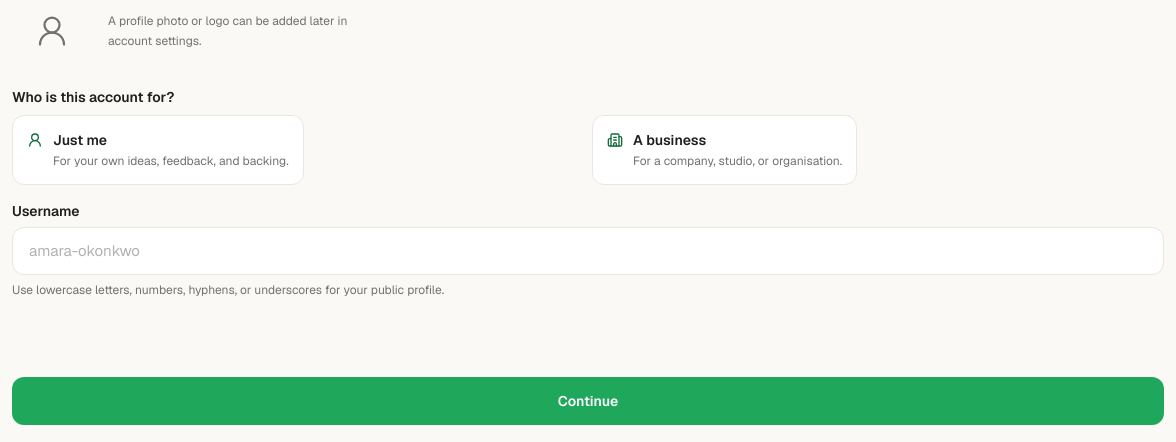
Test: ProfileOnboardingForm › asks who the account is for before showing name fields in preview
The width and height of the screenshot is (1176, 442).
Expected: the radio button labelled "Just me For your own ideas, feedback, and backing." is not checked, [12, 115, 304, 185]
Click the button "Continue": (588, 401) [12, 377, 1164, 425]
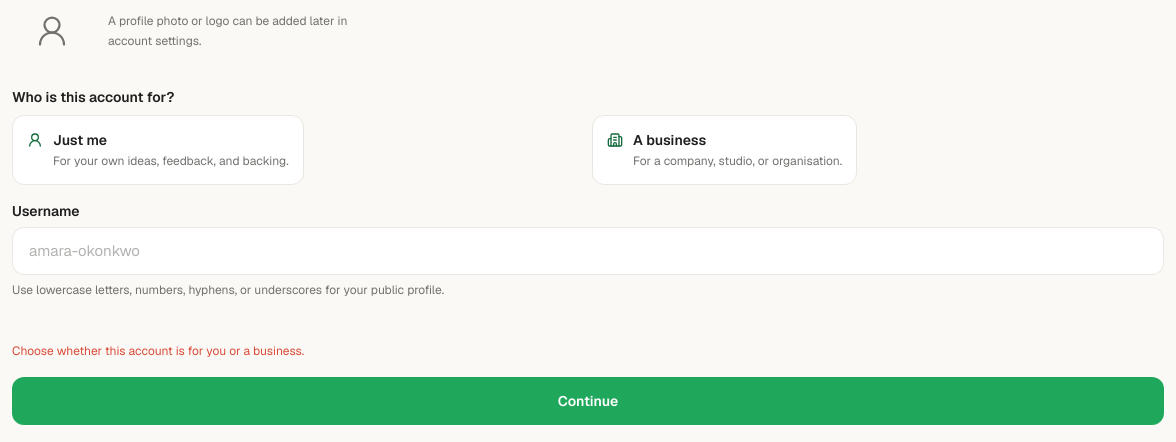
Result: the message "Choose whether this account is for you or a business." is shown at [12, 343, 304, 359]
